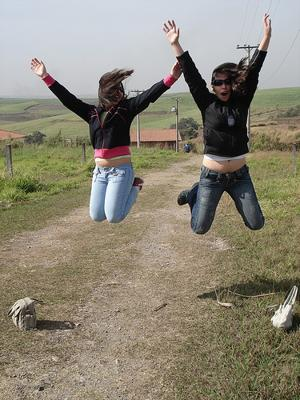person: (31, 54, 185, 224)
